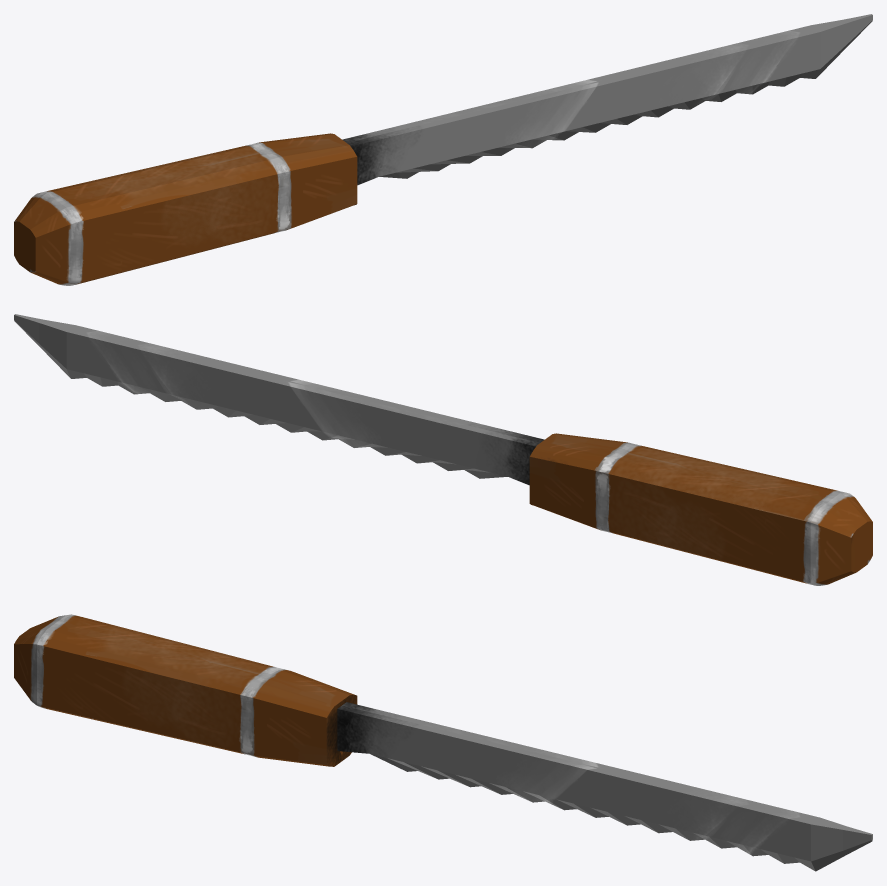
File: Knife_projectile.fbx
3 renders of one model, top to bottom at view 1: azimuth 30°, elevation 25°; view 2: azimuth 150°, elevation 25°; view 3: azimuth 330°, elevation 25°, orthographic.
Parts seen in each view (by area): view 1: Knife_projectile; view 2: Knife_projectile; view 3: Knife_projectile.
Part boxes in pixels (bbox=[...]): Knife_projectile: bbox=[14, 14, 872, 285]; Knife_projectile: bbox=[14, 314, 872, 585]; Knife_projectile: bbox=[14, 614, 872, 871].
Size of the model in its own units: 2631 by 232 by 213.
